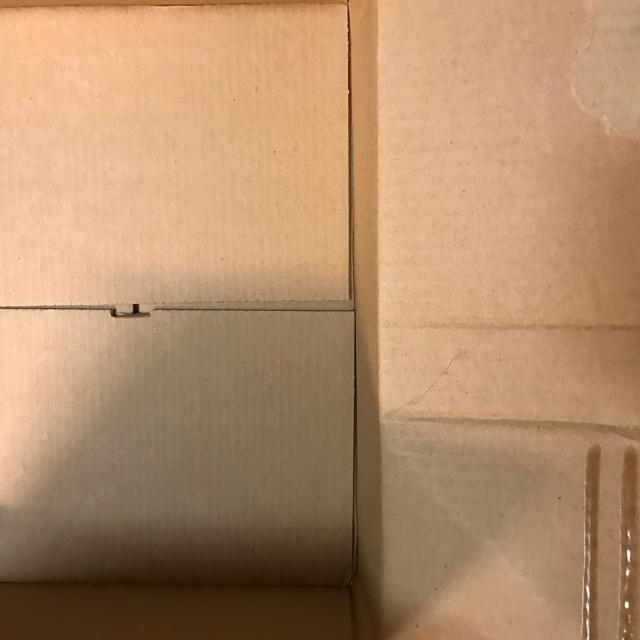cardboard: (0, 0, 357, 589)
